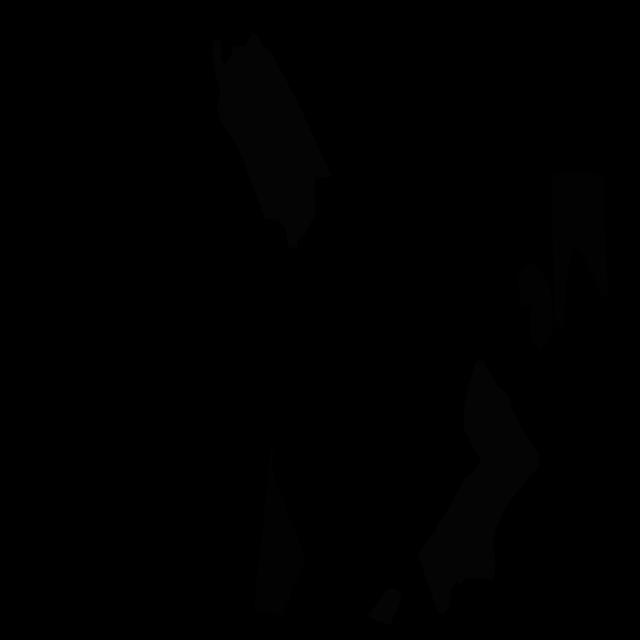cardboard: (551, 170, 608, 327), (253, 447, 304, 615), (517, 260, 554, 352)
soft_plastic: (418, 360, 538, 614), (212, 33, 331, 247), (368, 588, 402, 625)
